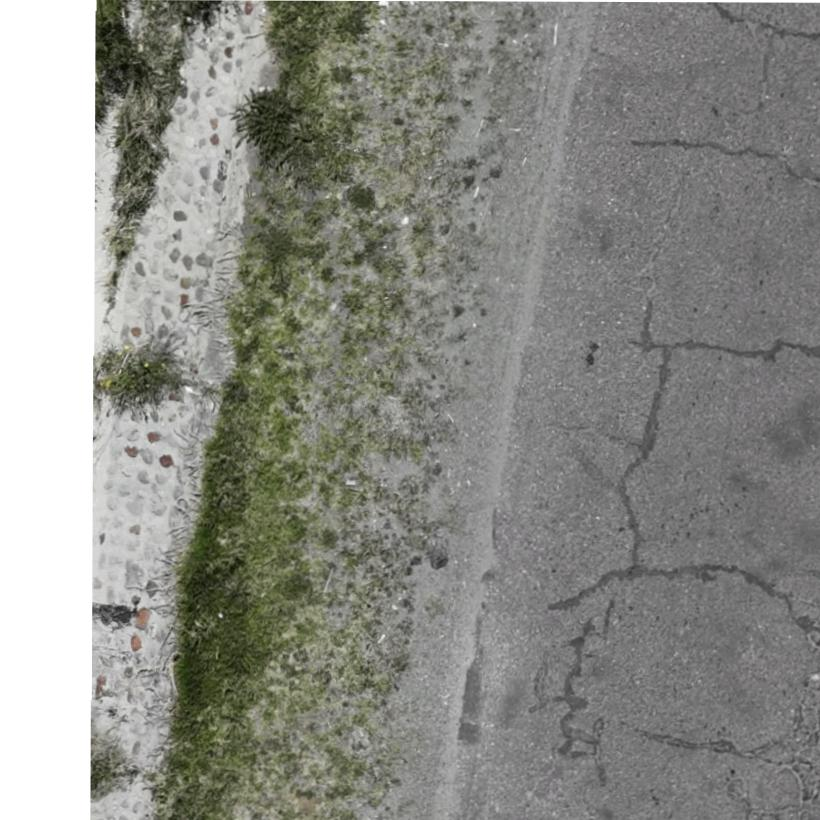GRIETA: (546, 564, 819, 646), (617, 349, 672, 566), (631, 137, 819, 189), (624, 722, 757, 760), (630, 339, 819, 361), (709, 3, 819, 40), (545, 422, 641, 449), (640, 292, 662, 341)
PIEL DE COCODRILO: (504, 596, 655, 819), (573, 68, 789, 145), (722, 670, 819, 819)
